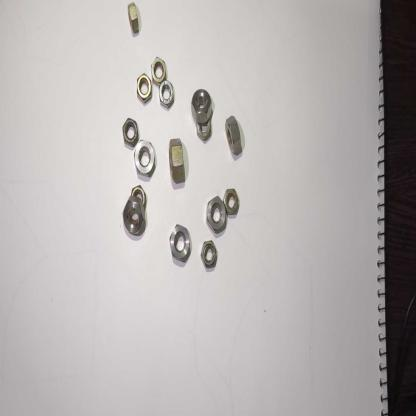NUTS: (119, 194, 147, 243), (167, 136, 188, 192), (222, 112, 244, 163), (168, 220, 192, 266), (189, 86, 216, 126), (133, 137, 158, 180), (205, 196, 228, 234), (221, 184, 242, 220), (198, 237, 219, 273), (156, 78, 177, 113), (127, 182, 152, 211), (134, 71, 153, 109), (119, 116, 140, 147), (194, 117, 214, 148), (150, 54, 168, 87), (127, 2, 140, 40)
